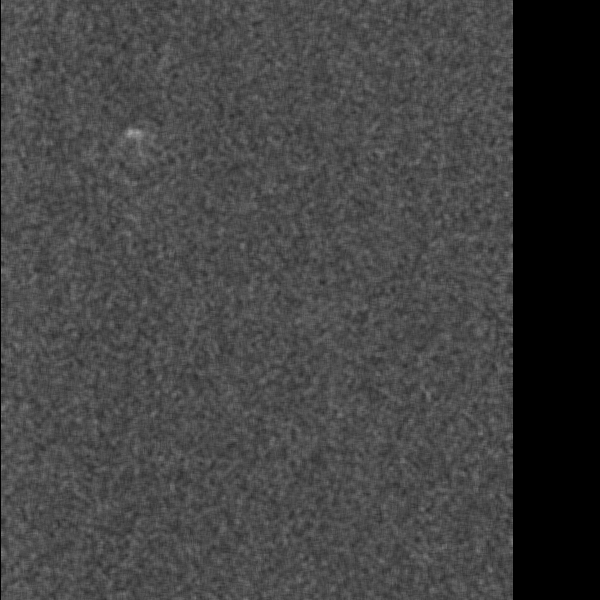spark: (378, 198, 403, 223), (376, 369, 400, 392)
